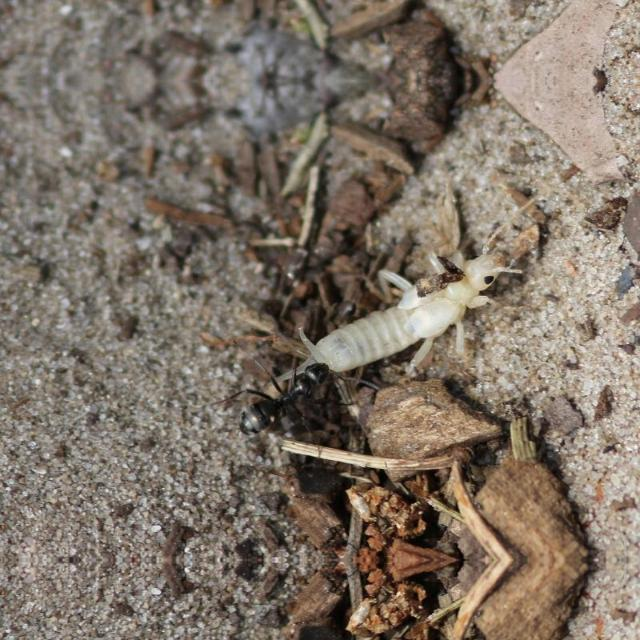Formica: (214, 334, 358, 448)
